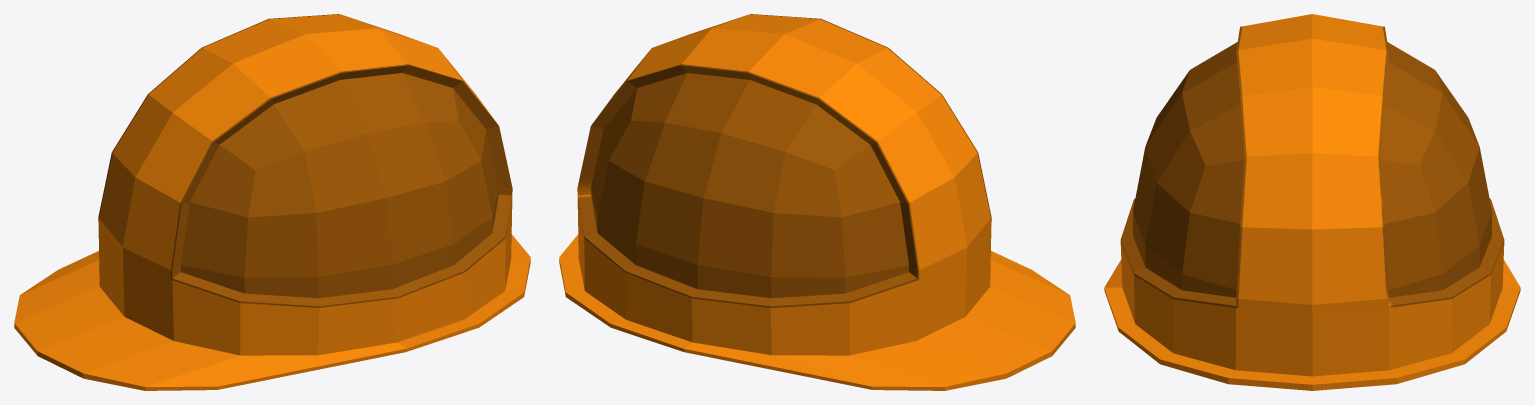
The model's file is Casco.glb.
3 views of the same model, side by side, from view 1: azimuth 30°, elevation 25°; view 2: azimuth 150°, elevation 25°; view 3: azimuth 270°, elevation 25° (orthographic). The views are drawn at different scales.
Visible parts, largest first — view 1: Cube; view 2: Cube; view 3: Cube.
Boxes of the visible parts, left/top/right/bottom form: Cube: left=14, top=14, right=530, bottom=390; Cube: left=559, top=14, right=1075, bottom=390; Cube: left=1104, top=14, right=1520, bottom=390.
Size of the model in its own units: 2.6 by 1.37 by 1.95.
1 material, 1 textured.
